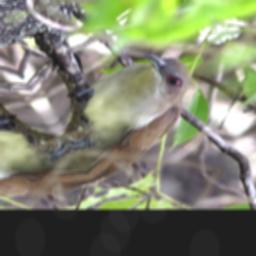Cuckoo: (34, 43, 231, 182)
